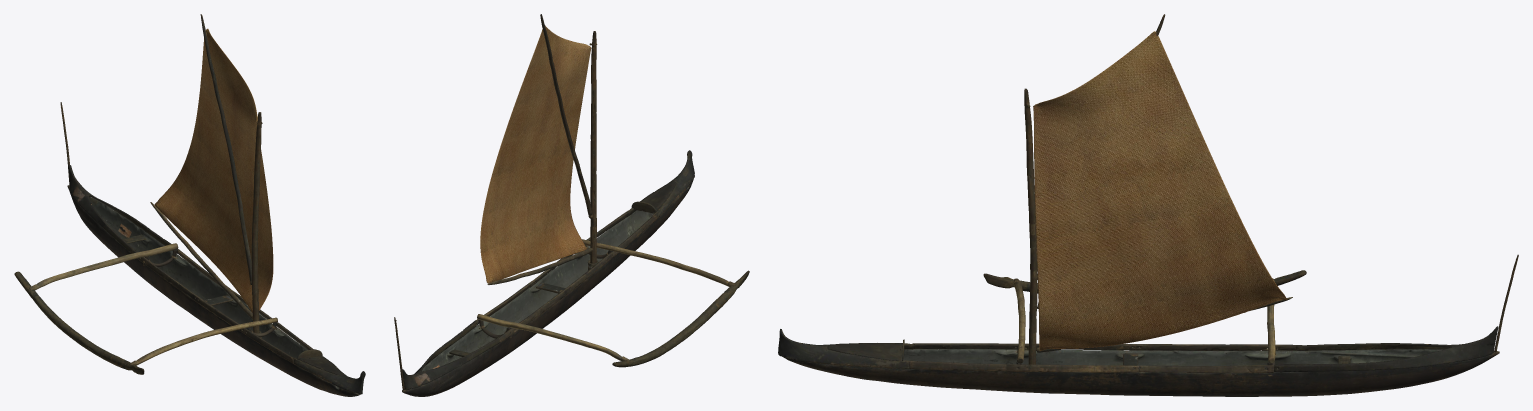
Rendered from preview.glb.
3 renders of one model, left to right at view 1: azimuth 30°, elevation 25°; view 2: azimuth 150°, elevation 25°; view 3: azimuth 270°, elevation 25°, orthographic. The views are drawn at different scales.
Size of the model in its own units: 1.79 by 3.37 by 5.97.
Materials: 1 (1 with a texture image).
